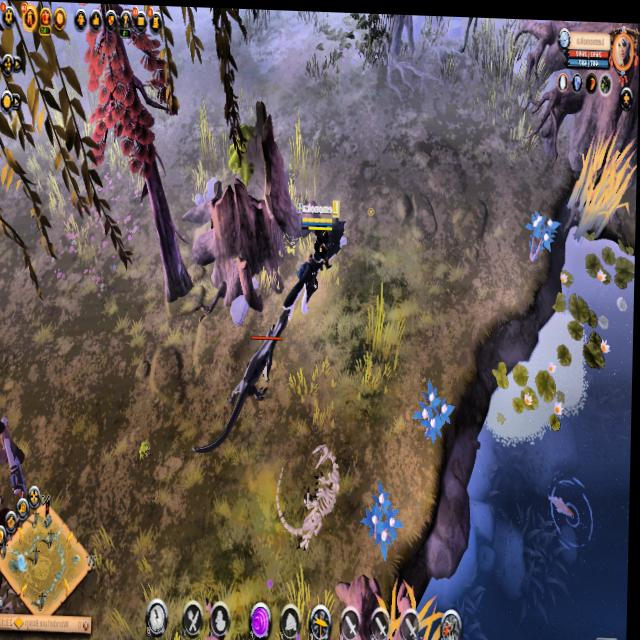fiber tier 4: (360, 475, 408, 560), (411, 378, 461, 446), (524, 202, 561, 265)
fish: (542, 466, 602, 551)
